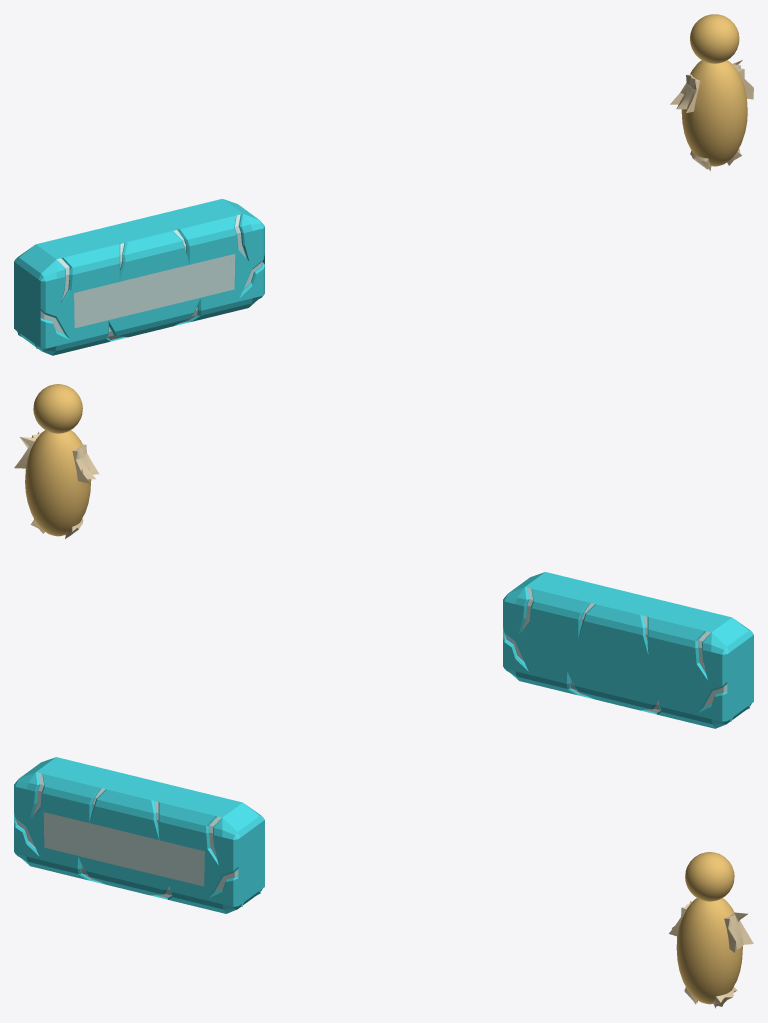
The picture shows the model from 3 angles, top to bottom: view 1: azimuth 30°, elevation 25°; view 2: azimuth 150°, elevation 25°; view 3: azimuth 330°, elevation 25°; orthographic projection.
Visible parts, largest first — view 1: Cube, Sphere.001, 3DUIBlock, Sphere; view 2: 3DUIBlock, Sphere.001, Cube, Sphere; view 3: Cube, Sphere.001, 3DUIBlock, Sphere.
Boxes of the visible parts, x1,y1,x2,y2 form: Cube: [18, 200, 264, 355]; Sphere.001: [670, 60, 753, 171]; 3DUIBlock: [14, 199, 239, 348]; Sphere: [690, 14, 739, 63]; 3DUIBlock: [503, 576, 749, 728]; Sphere.001: [14, 430, 98, 538]; Cube: [512, 572, 753, 721]; Sphere: [33, 384, 82, 433]; Cube: [14, 762, 260, 913]; Sphere.001: [669, 898, 753, 1008]; 3DUIBlock: [23, 757, 264, 906]; Sphere: [685, 852, 734, 901].
Bounding box in the file's own units: 2047 × 458 × 167.
